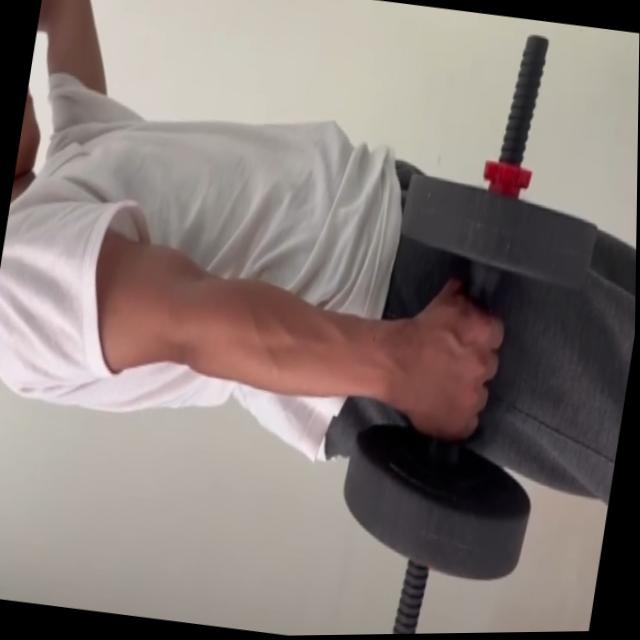hammer: (330, 165, 604, 592)
